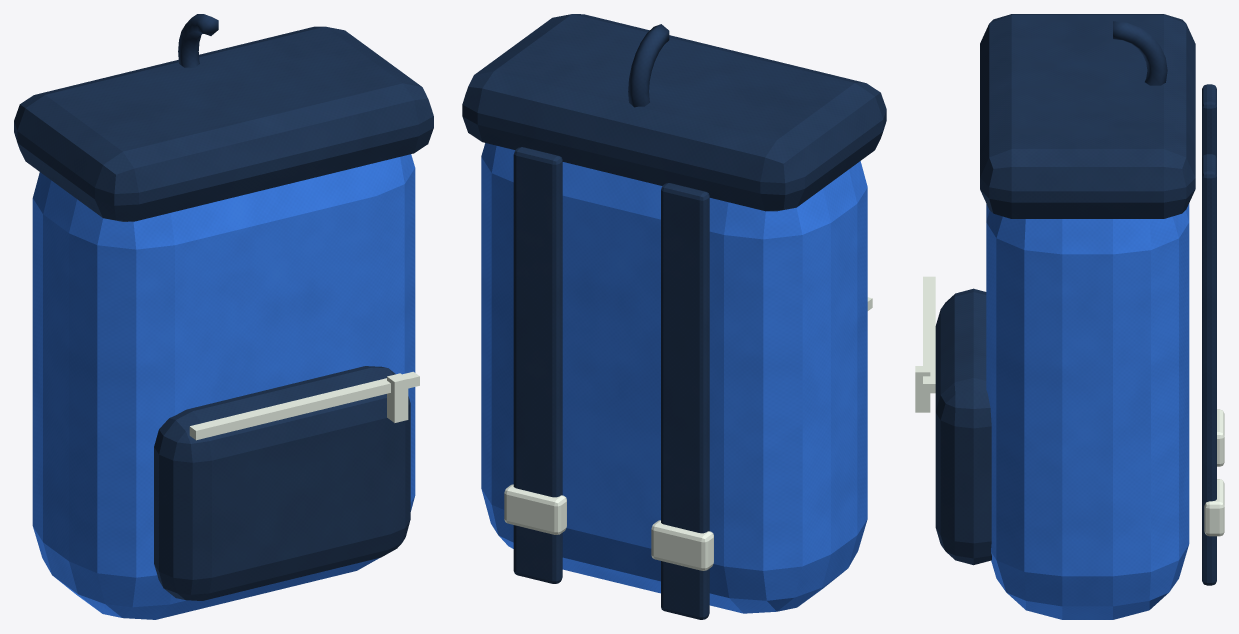
File: backpack_daypack.glb
3 renders of one model, left to right at view 1: azimuth 30°, elevation 25°; view 2: azimuth 150°, elevation 25°; view 3: azimuth 270°, elevation 25°, orthographic. The views are drawn at different scales.
Visible parts, largest first — view 1: backpack_daypack; view 2: backpack_daypack; view 3: backpack_daypack.
Part boxes in pixels (x1,y1,x2,y2): backpack_daypack: (14,14,433,619); backpack_daypack: (462,14,886,619); backpack_daypack: (915,14,1224,619).
Bounding box in the file's own units: 0.3 × 0.473 × 0.244.
Materials: 3 (2 with a texture image).
